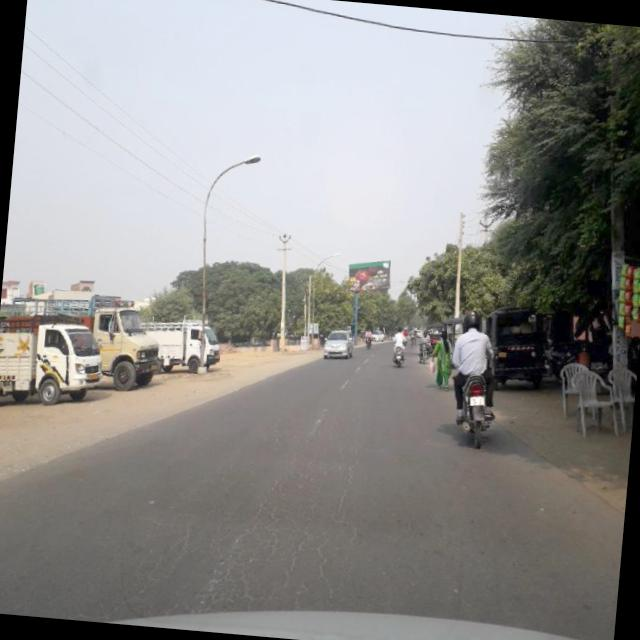crack: (144, 444, 395, 630)
